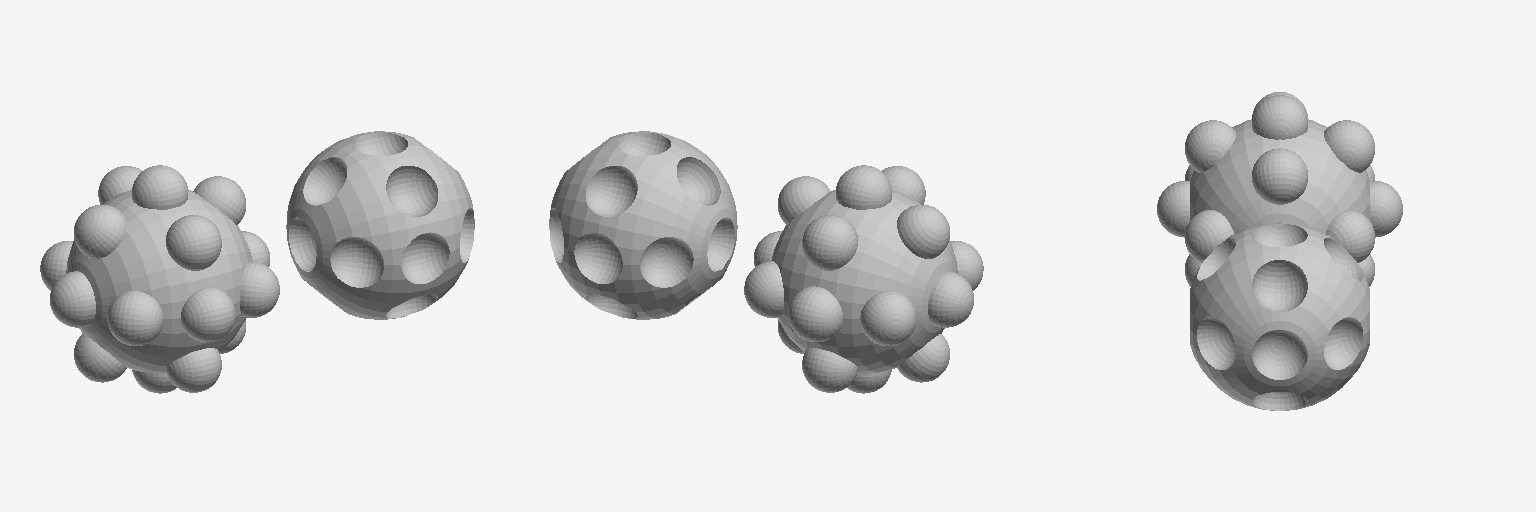
File: NOP_Balls.obj
3 views of the same model, side by side, from view 1: azimuth 30°, elevation 25°; view 2: azimuth 150°, elevation 25°; view 3: azimuth 270°, elevation 25° (orthographic).
Parts seen in each view (by area): view 1: NOP_Mine, NOP__Sphere.029; view 2: NOP_Mine, NOP__Sphere.029; view 3: NOP__Sphere.029, NOP_Mine.
Part boxes in pixels (left/top/right/bottom): NOP_Mine: left=40, top=165, right=279, bottom=393; NOP__Sphere.029: left=286, top=131, right=474, bottom=319; NOP_Mine: left=744, top=165, right=983, bottom=393; NOP__Sphere.029: left=549, top=131, right=737, bottom=319; NOP__Sphere.029: left=1190, top=222, right=1369, bottom=410; NOP_Mine: left=1157, top=92, right=1402, bottom=286.
Bounding box in the file's own units: 30.09 × 15.84 × 15.84.